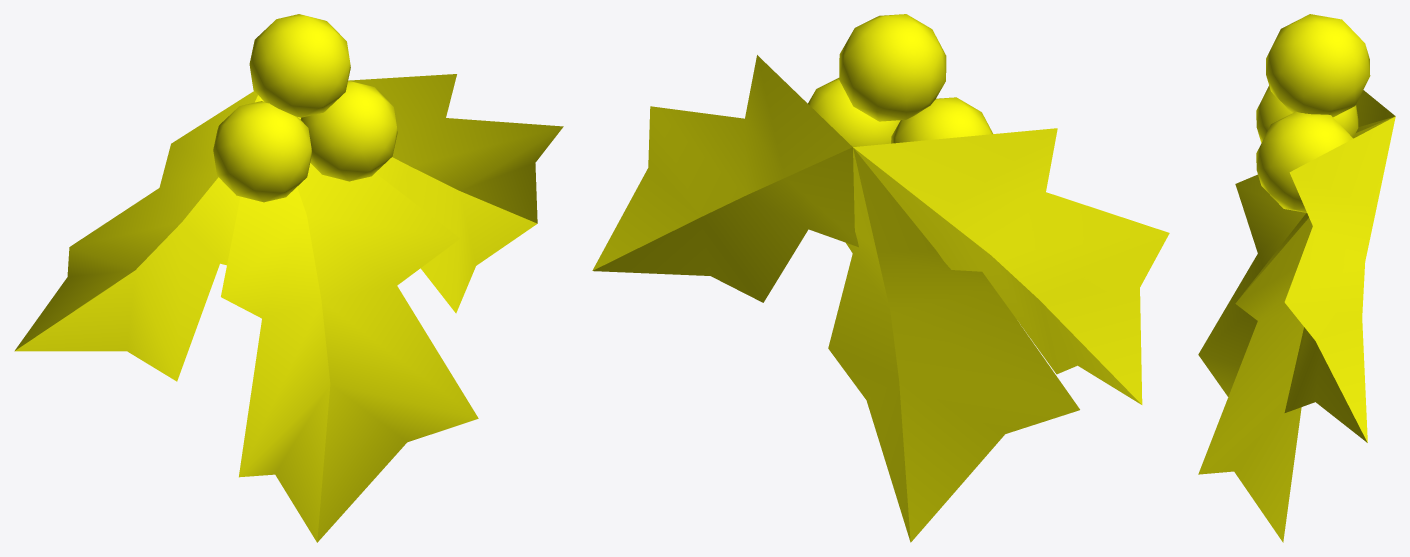
Rendered from kaykit-mistletoe-a.glb.
3 renders of one model, left to right at view 1: azimuth 30°, elevation 25°; view 2: azimuth 150°, elevation 25°; view 3: azimuth 270°, elevation 25°, orthographic. The views are drawn at different scales.
Parts seen in each view (by area): view 1: mistletoe_A; view 2: mistletoe_A; view 3: mistletoe_A.
Boxes of the visible parts, x1,y1,x2,y2 form: mistletoe_A: (14,14,563,542); mistletoe_A: (592,14,1169,542); mistletoe_A: (1198,14,1395,542).
Size of the model in its own units: 0.7336 by 0.6855 by 0.2343.
